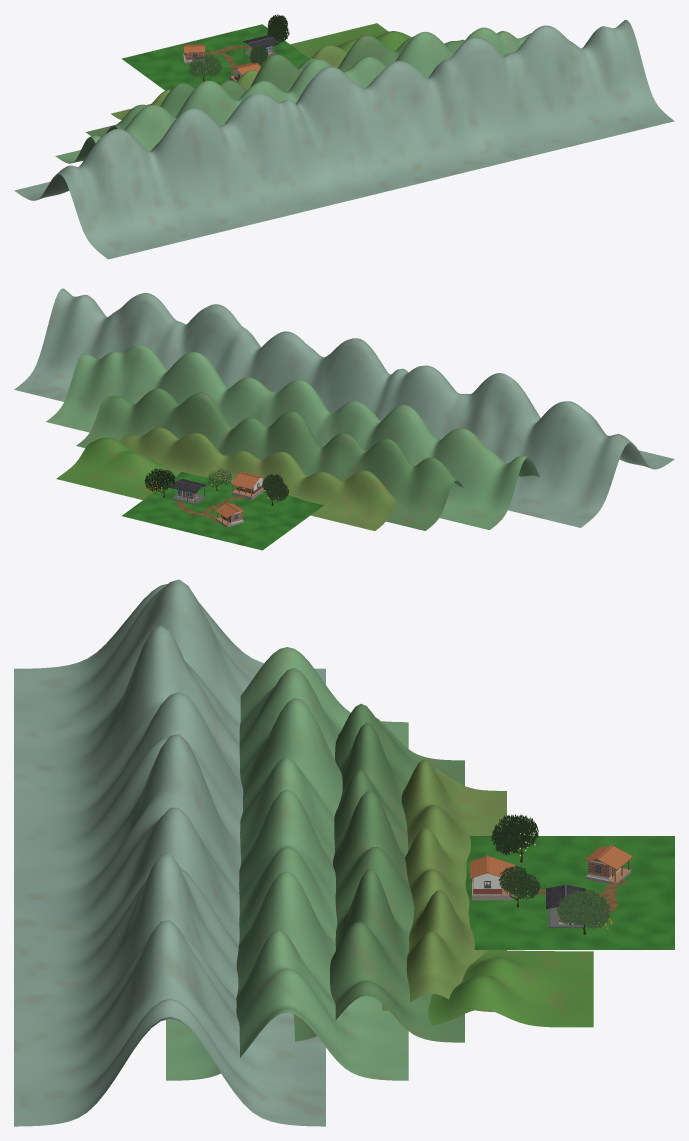
The model's file is cauca_montanas1.glb.
3 renders of one model, top to bottom at view 1: azimuth 30°, elevation 25°; view 2: azimuth 150°, elevation 25°; view 3: azimuth 270°, elevation 25°, orthographic. The views are drawn at different scales.
Parts seen in each view (by area): view 1: Montaña_Capa4_Fondo, Montaña_Capa3_Lejana, Plano, Montaña_Capa2_Media, Montaña_Loma_Izquierda, Montaña_Capa1_Cercana, Follaje_Guayabo, Follaje_Naranjo; view 2: Montaña_Capa4_Fondo, Montaña_Capa3_Lejana, Montaña_Capa2_Media, Montaña_Capa1_Cercana, Plano, Montaña_Loma_Izquierda, Follaje_Naranjo, Follaje_Guayabo; view 3: Montaña_Capa4_Fondo, Montaña_Capa3_Lejana, Montaña_Capa2_Media, Plano, Montaña_Capa1_Cercana, Montaña_Loma_Izquierda, Follaje_Naranjo, Follaje_Guayabo, Follaje_Limonero.
Boxes of the visible parts, x1=… form: Montaña_Capa4_Fondo: x1=14, y1=20, x2=674, y2=259; Montaña_Capa3_Lejana: x1=55, y1=27, x2=531, y2=163; Plano: x1=122, y1=24, x2=309, y2=90; Montaña_Capa2_Media: x1=85, y1=35, x2=464, y2=136; Montaña_Loma_Izquierda: x1=290, y1=23, x2=410, y2=58; Montaña_Capa1_Cercana: x1=111, y1=45, x2=347, y2=119; Follaje_Guayabo: x1=188, y1=54, x2=222, y2=77; Follaje_Naranjo: x1=267, y1=14, x2=289, y2=42; Montaña_Capa4_Fondo: x1=14, y1=288, x2=674, y2=527; Montaña_Capa3_Lejana: x1=46, y1=344, x2=539, y2=529; Montaña_Capa2_Media: x1=76, y1=388, x2=463, y2=530; Montaña_Capa1_Cercana: x1=120, y1=427, x2=403, y2=530; Plano: x1=122, y1=472, x2=323, y2=550; Montaña_Loma_Izquierda: x1=56, y1=437, x2=176, y2=499; Follaje_Naranjo: x1=144, y1=468, x2=175, y2=491; Follaje_Guayabo: x1=262, y1=474, x2=288, y2=501; Montaña_Capa4_Fondo: x1=14, y1=579, x2=325, y2=1126; Montaña_Capa3_Lejana: x1=166, y1=647, x2=408, y2=1080; Montaña_Capa2_Media: x1=293, y1=704, x2=464, y2=1042; Plano: x1=465, y1=836, x2=674, y2=949; Montaña_Capa1_Cercana: x1=382, y1=760, x2=506, y2=1011; Montaña_Loma_Izquierda: x1=428, y1=950, x2=593, y2=1027; Follaje_Naranjo: x1=556, y1=889, x2=610, y2=928; Follaje_Guayabo: x1=491, y1=814, x2=538, y2=855; Follaje_Limonero: x1=498, y1=865, x2=540, y2=899.
Bounding box in the file's own units: 60 × 9.17 × 36.61.
Materials: 28 (3 with a texture image).
